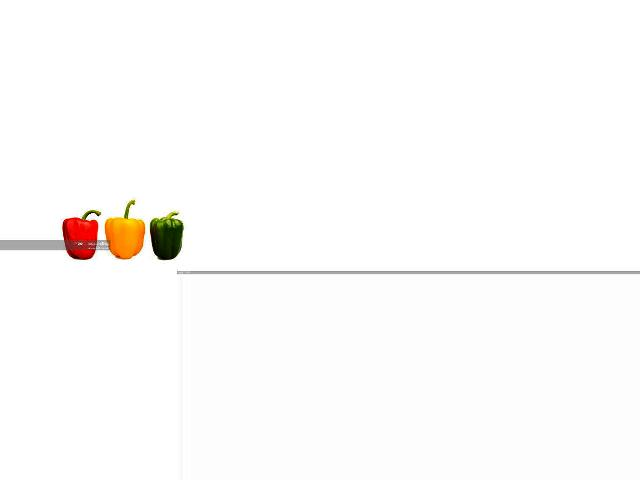bell_pepper: (151, 205, 187, 263)
